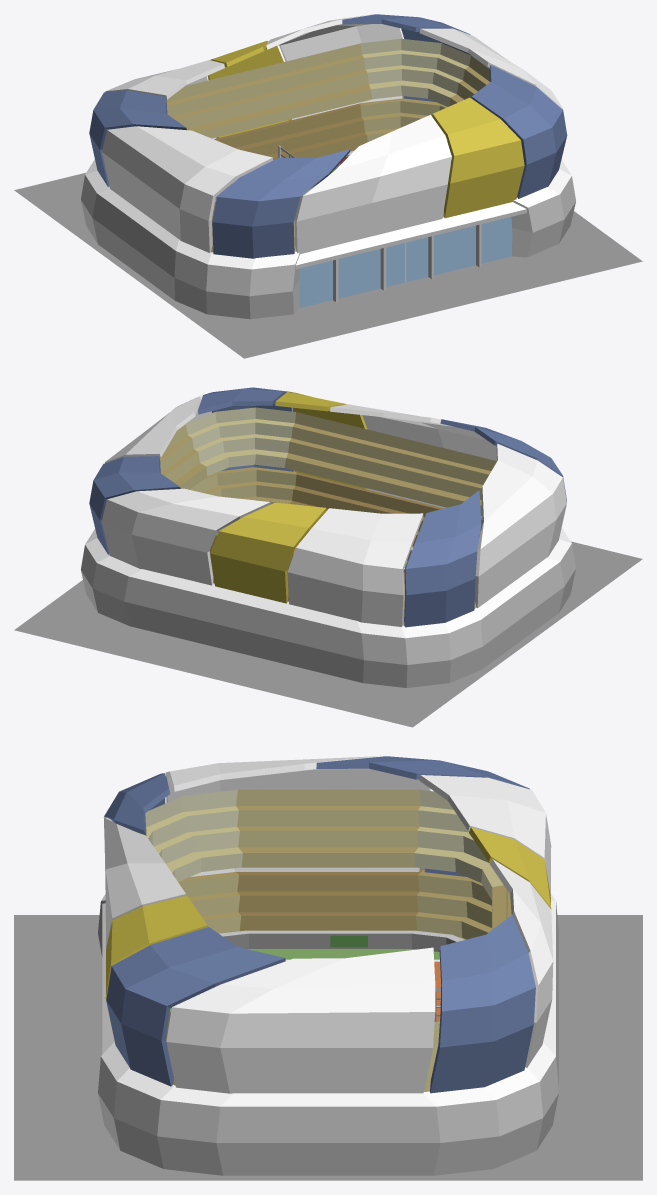
File: stadium_006.fbx
The picture shows the model from 3 angles, top to bottom: view 1: azimuth 30°, elevation 25°; view 2: azimuth 150°, elevation 25°; view 3: azimuth 270°, elevation 25°; orthographic projection. The views are drawn at different scales.
Visible parts, largest first — view 1: stadium_006; view 2: stadium_006; view 3: stadium_006.
Boxes of the visible parts, bbox=[...] form: stadium_006: bbox=[14, 14, 642, 358]; stadium_006: bbox=[14, 387, 642, 727]; stadium_006: bbox=[14, 756, 642, 1180].
Bounding box in the file's own units: 1600 × 545 × 1600.
